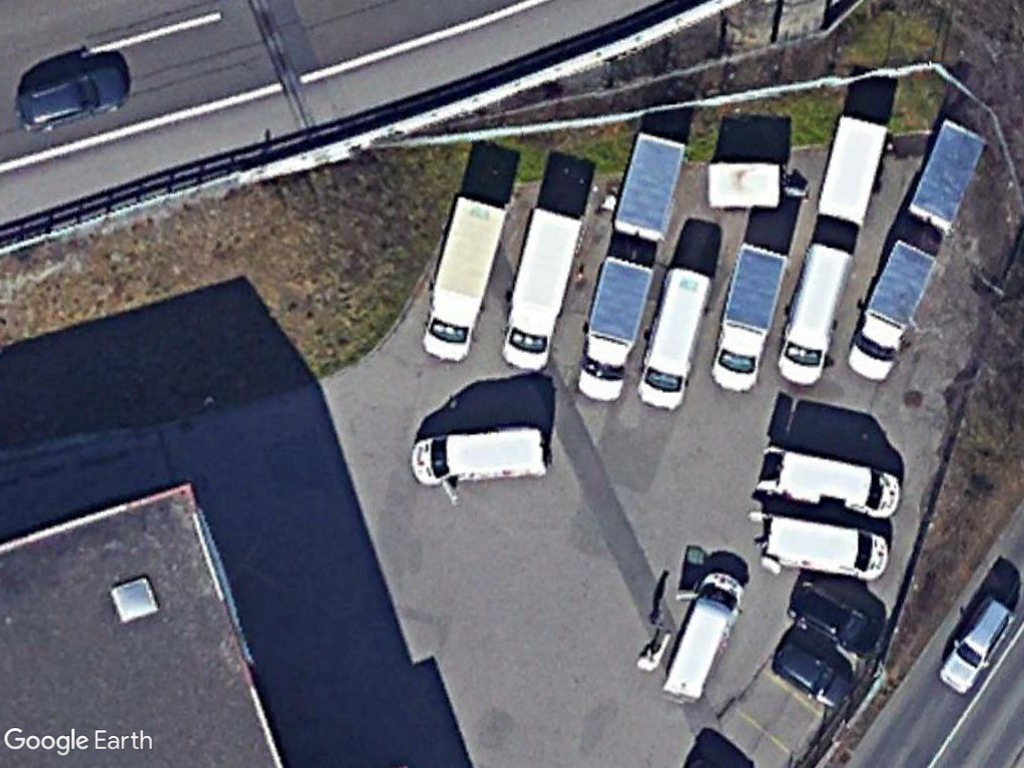car: (12, 58, 128, 136), (935, 599, 1015, 696)
truck: (418, 194, 509, 363), (499, 205, 591, 372), (843, 236, 941, 382), (573, 251, 650, 406), (707, 239, 785, 391)
van: (753, 438, 902, 520), (774, 240, 852, 386), (638, 264, 712, 414), (661, 573, 745, 704), (762, 511, 890, 584), (407, 425, 550, 488)
